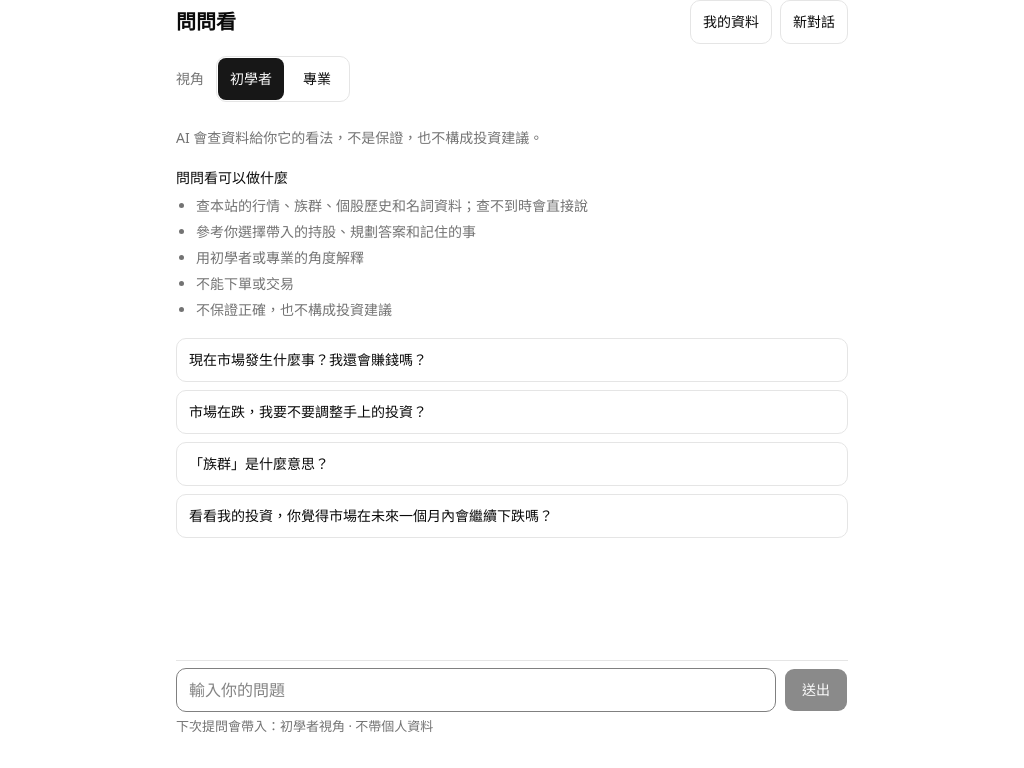
Scenario: AskChat: frame › has a title, a data button and a new-chat button
The width and height of the screenshot is (1024, 768).
Check: the heading "問問看" is shown, box [176,8,236,36]
Check: the button "新對話" is shown, box [780,0,848,44]
Click the button "我的資料": click(731, 22) [690,0,772,44]
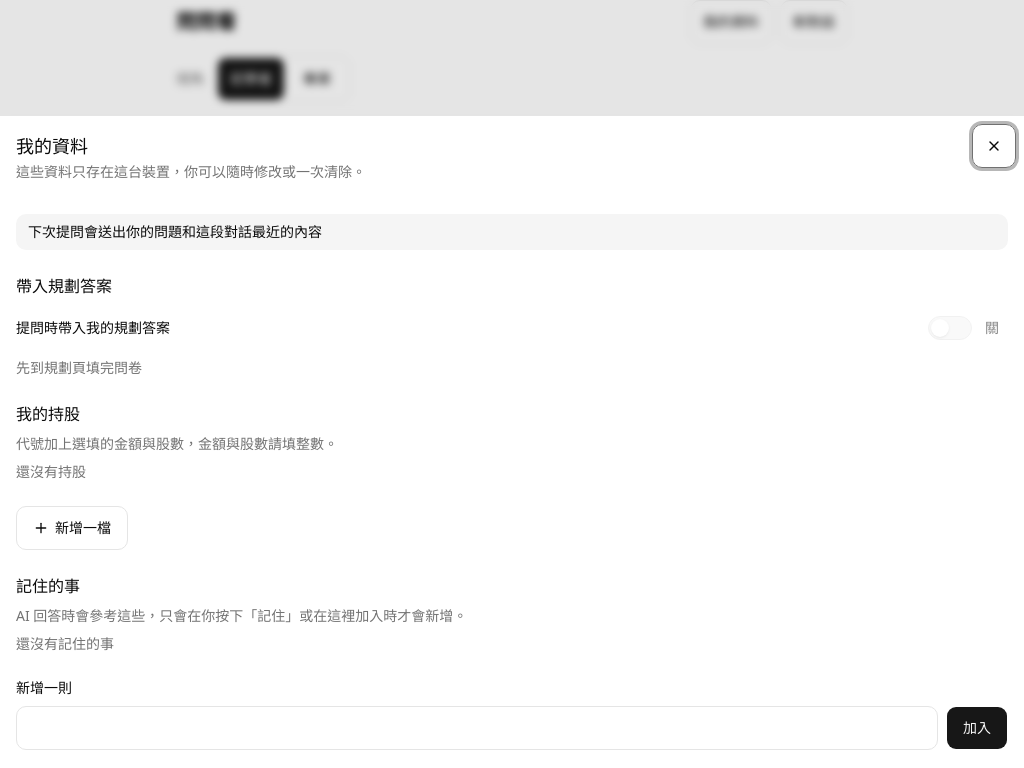
Check: the dialog "我的資料" is shown
